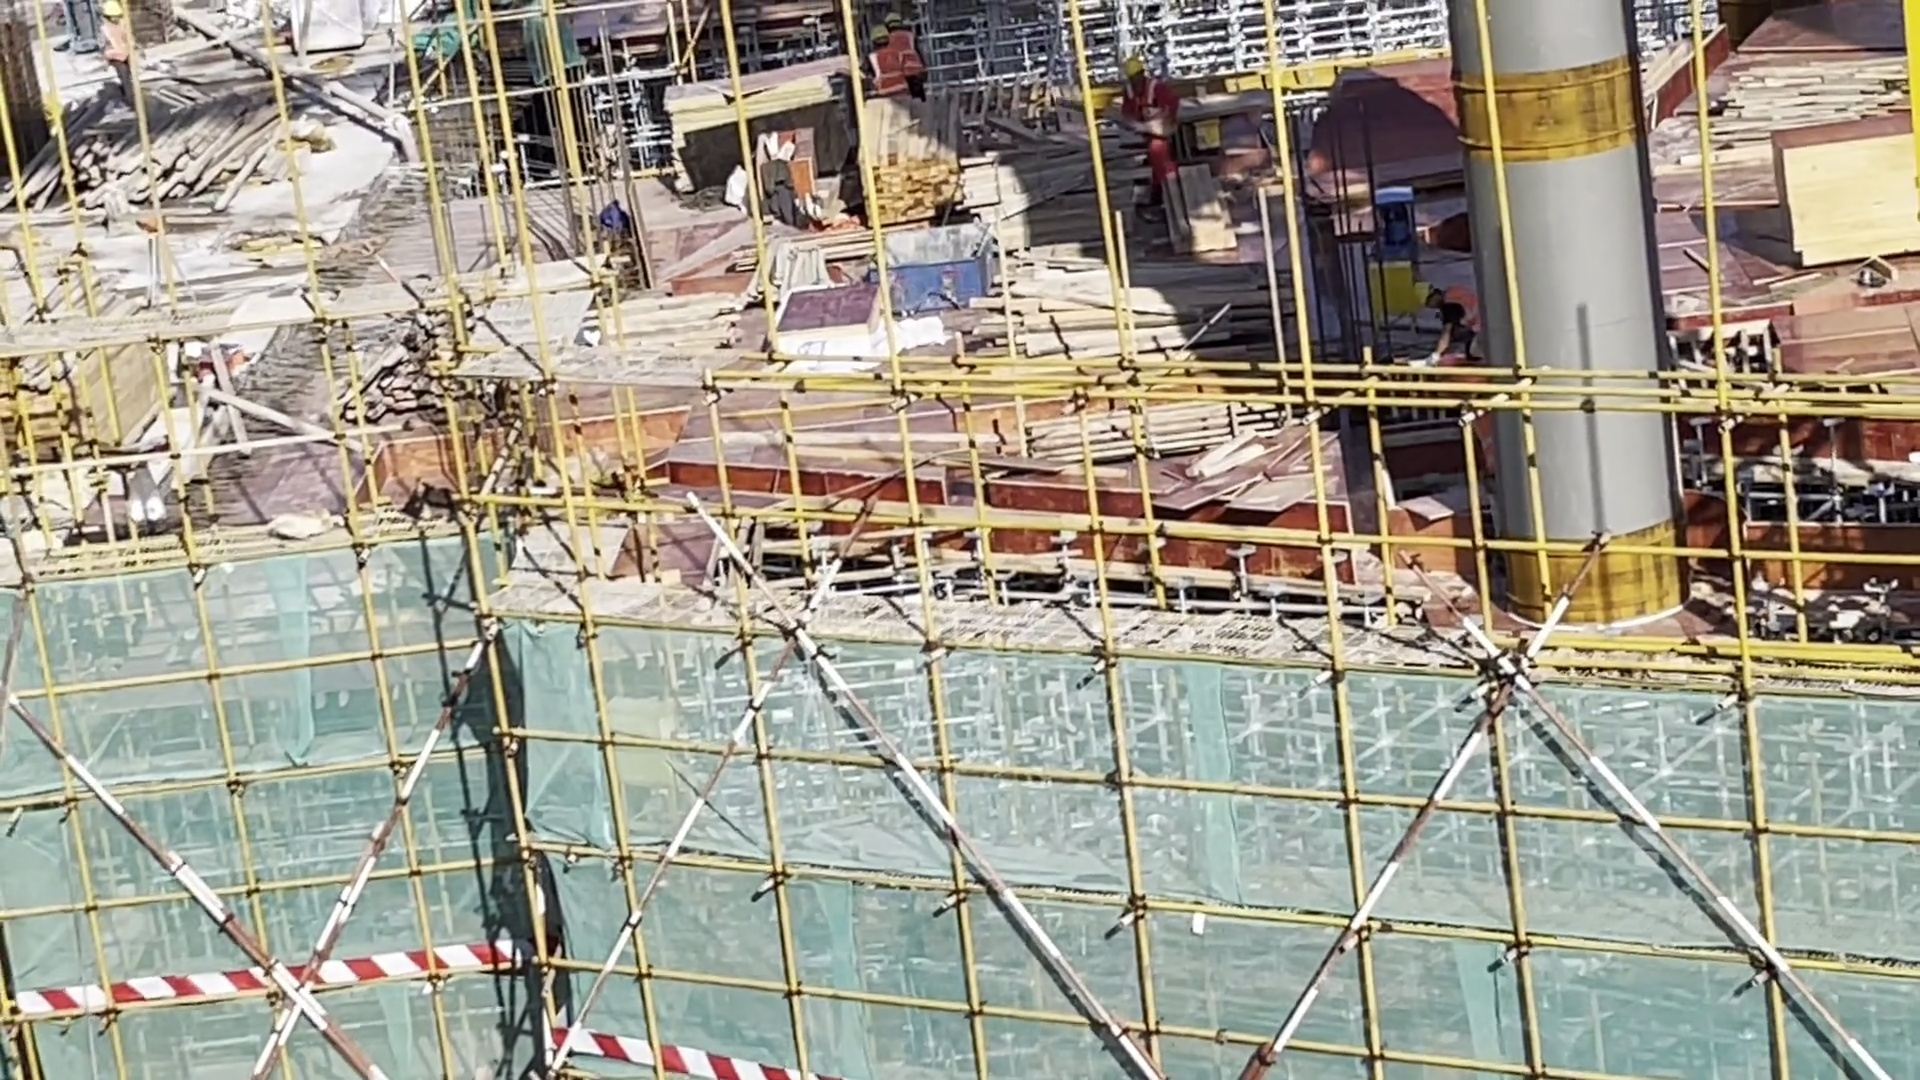helmet: (1122, 46, 1148, 79), (1410, 281, 1437, 311), (867, 24, 888, 42)
person: (1115, 41, 1181, 175), (1403, 278, 1492, 376), (859, 23, 898, 95)
vest: (1122, 89, 1174, 168), (891, 31, 919, 79), (867, 53, 896, 98)
